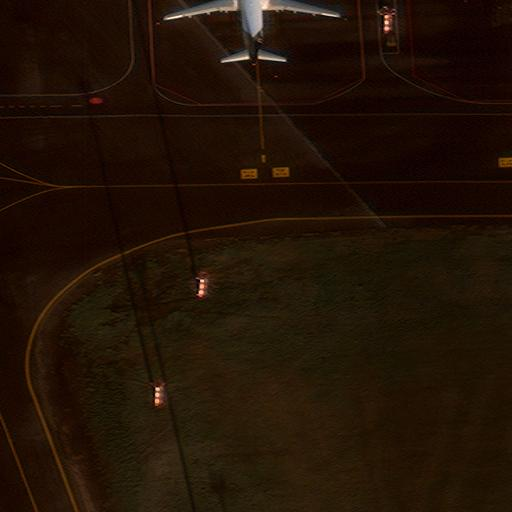Medium Civil Transport: (164, 0, 339, 64)
